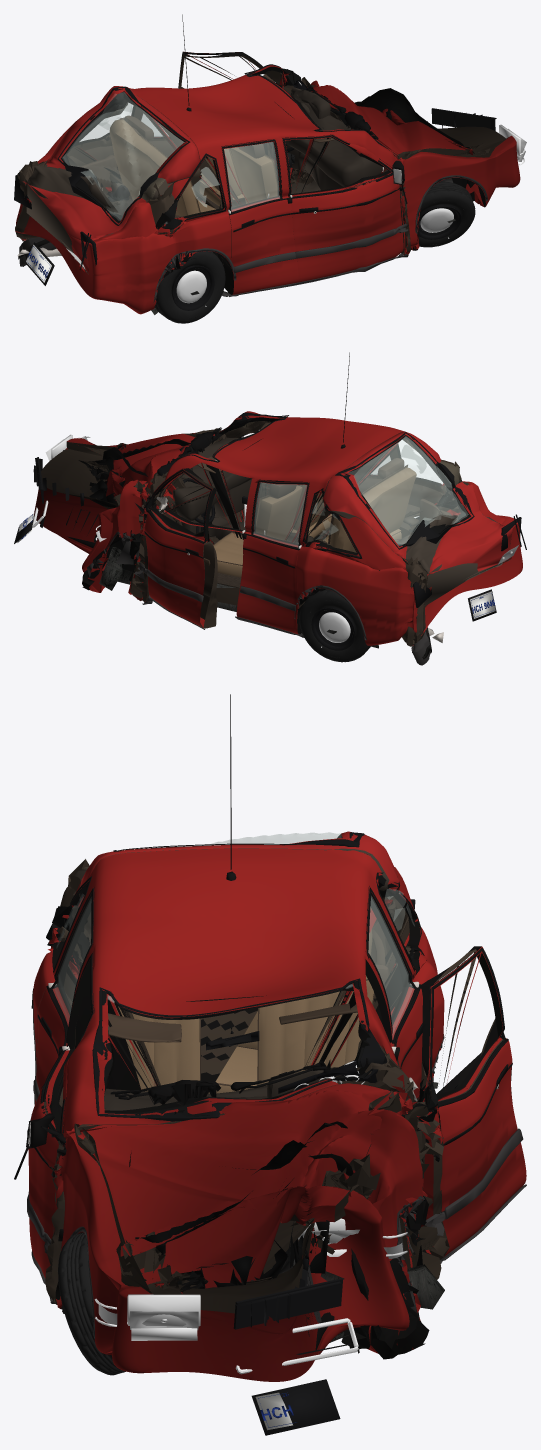
The model's file is hatchback85_front_corner_d3_lod1.glb.
3 views of the same model, one above another, from view 1: azimuth 30°, elevation 25°; view 2: azimuth 150°, elevation 25°; view 3: azimuth 270°, elevation 25° (orthographic). The views are drawn at different scales.
Parts seen in each view (by area): view 1: Body, Interior, Hatch, Door_FR, Glass_Hatch, Door_RR, Hood, Wheel_RR_mesh, Glass_RR, Wheel_FR_mesh, Ends, Trim_FR (+7 smaller); view 2: Body, Interior, Hatch, Glass_Hatch, Door_FL, Door_RL, Wheel_RL_mesh, Hood, Ends, Glass_RL, Trim, Trim_FL (+5 smaller); view 3: Body, Hood, Interior, Door_FL, Ends, Glass, Door_FR, Trim, Trim_FL, Wheel_FR_mesh, Door_RL, Door_RR (+9 smaller).
Boxes of the visible parts, x1,y1,x2,y2 form: Body: (15,65,520,314); Interior: (80,74,382,216); Hatch: (25,86,200,273); Door_FR: (282,134,405,282); Glass_Hatch: (57,86,190,225); Door_RR: (221,139,298,294); Hood: (307,83,474,156); Wheel_RR_mesh: (155,251,225,323); Glass_RR: (222,142,282,212); Wheel_FR_mesh: (418,181,475,247); Ends: (14,108,526,285); Trim_FR: (283,135,408,284); Body: (34,411,522,646); Interior: (173,422,451,577); Hatch: (322,431,512,605); Glass_Hatch: (335,432,474,549); Door_FL: (135,468,217,628); Door_RL: (236,479,309,634); Wheel_RL_mesh: (299,589,370,662); Hood: (102,433,214,507); Ends: (14,434,526,621); Glass_RL: (251,482,309,547); Trim: (87,352,366,640); Trim_FL: (134,469,212,629); Body: (31,848,444,1381); Hood: (78,1083,392,1293); Interior: (90,907,389,1110); Door_FL: (409,946,526,1259); Ends: (94,899,415,1435); Glass: (46,875,421,1121); Door_FR: (28,952,94,1278); Trim: (33,694,444,1338); Trim_FL: (409,947,526,1263); Wheel_FR_mesh: (58,1232,125,1375); Door_RL: (365,886,422,1098); Door_RR: (34,887,94,1104).
Bounding box in the file's own units: 4.01 × 2.19 × 2.09.
Materials: 32 (5 with a texture image).
